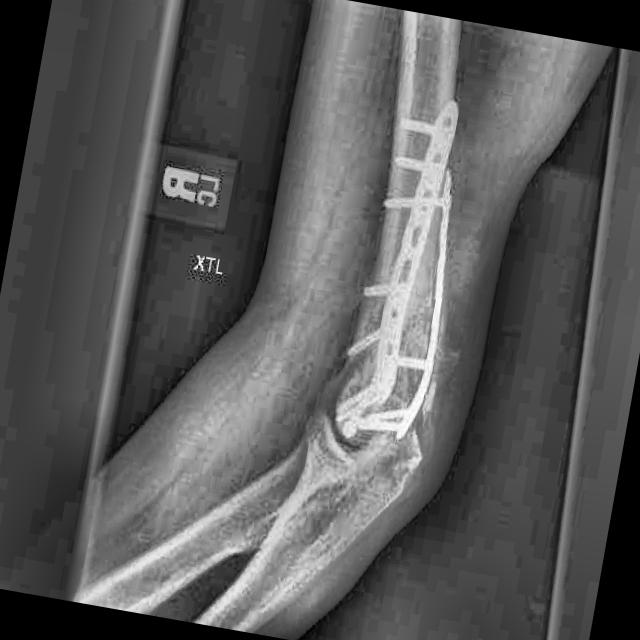elbow positive: (386, 318, 468, 461)
